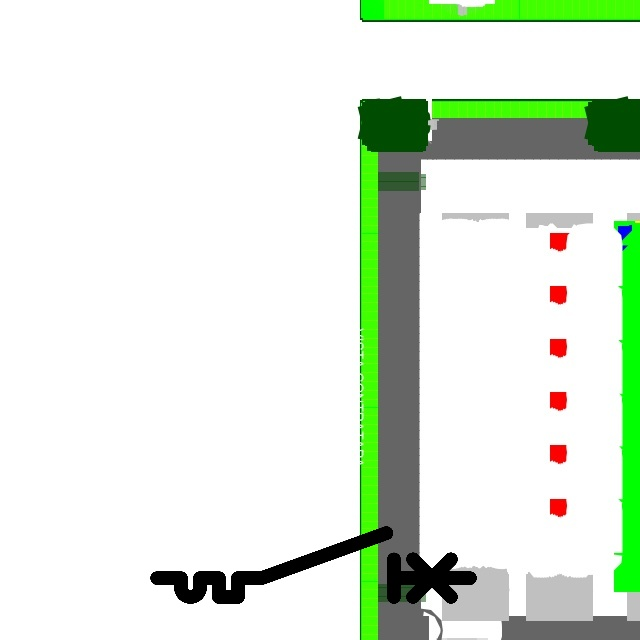interruptor_termomagnetico: (149, 525, 478, 605)
